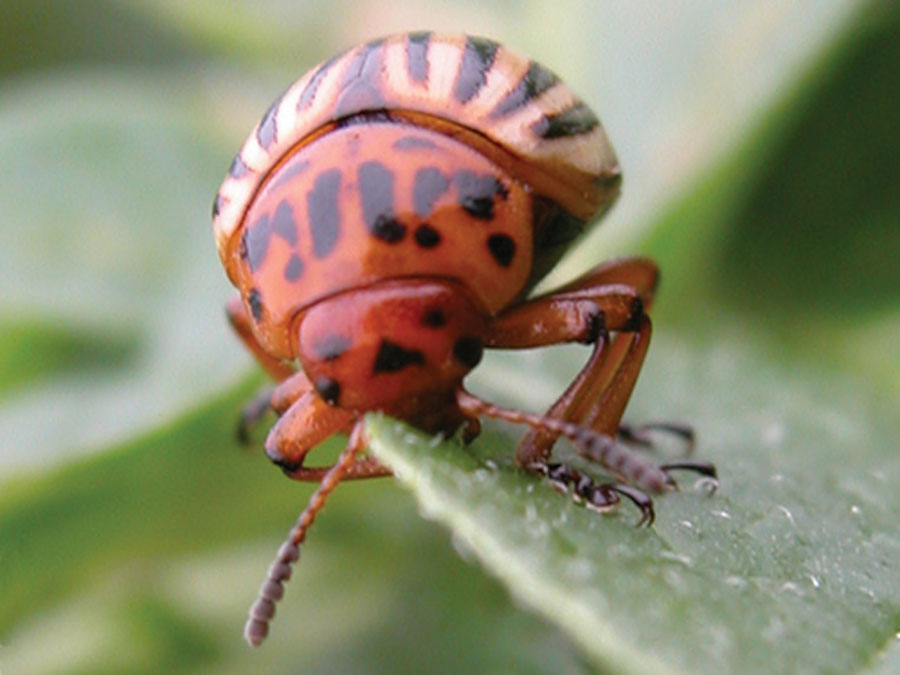Colorado Potato Beetle: (206, 26, 730, 650)
